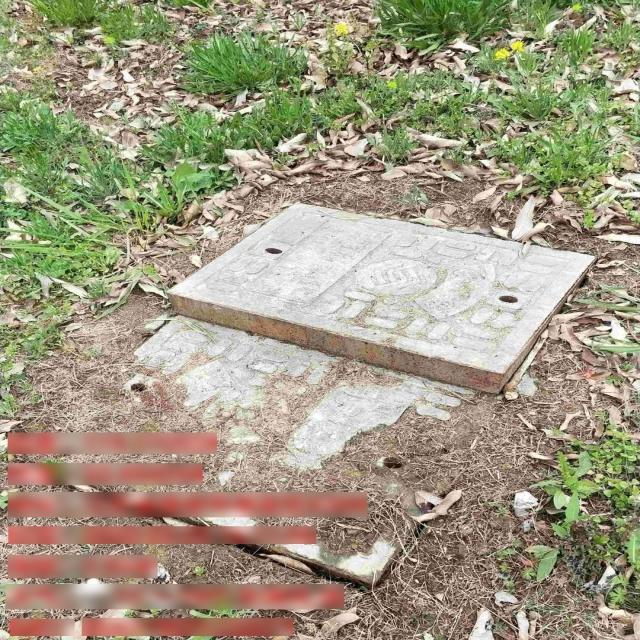Faulty: (19, 198, 592, 582)
